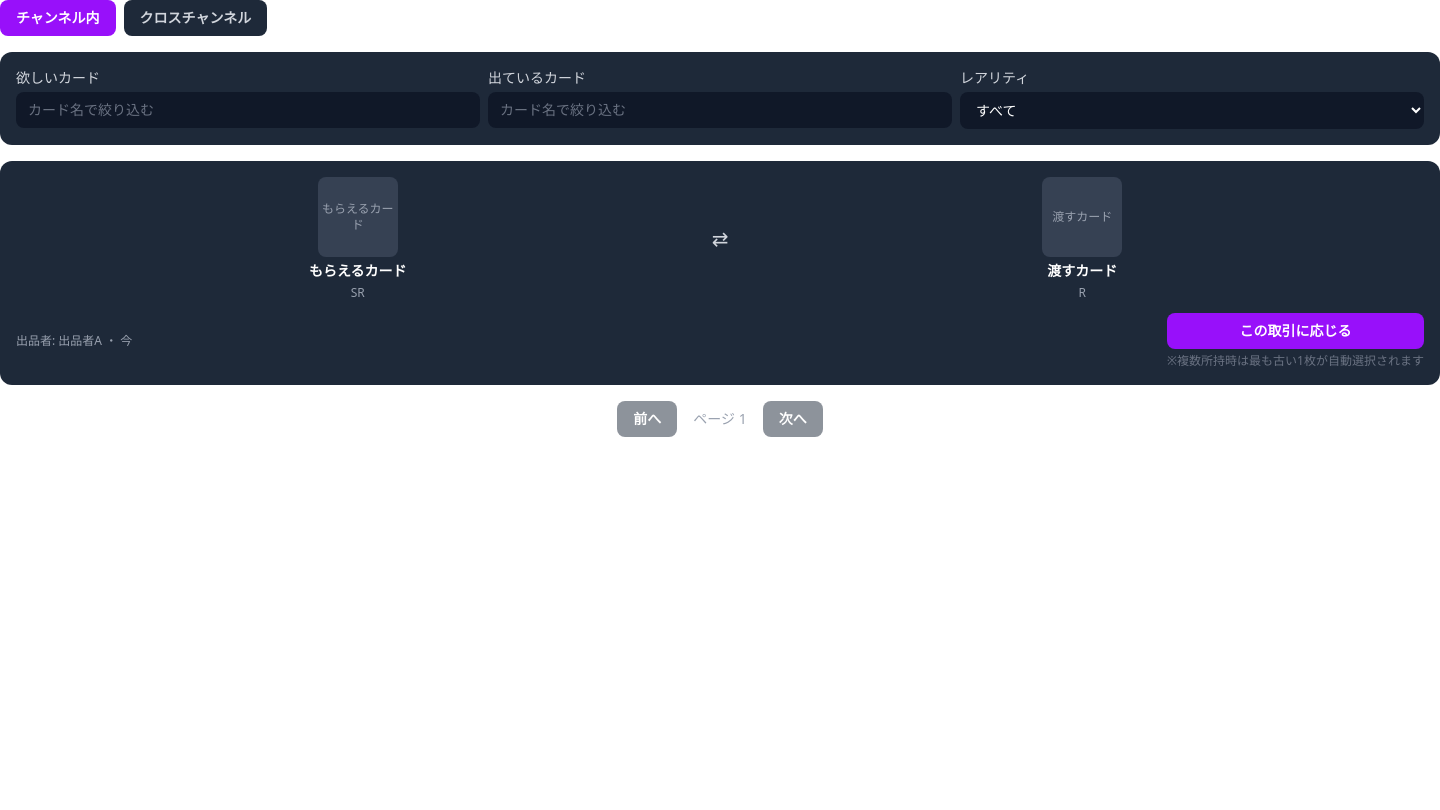
it: TradeBoard (#726) › keeps the same requestId across retries and shows the busy message on TRADE_BUSY
Click the button "この取引に応じる" at (1296, 331), box [1167,313,1424,349]
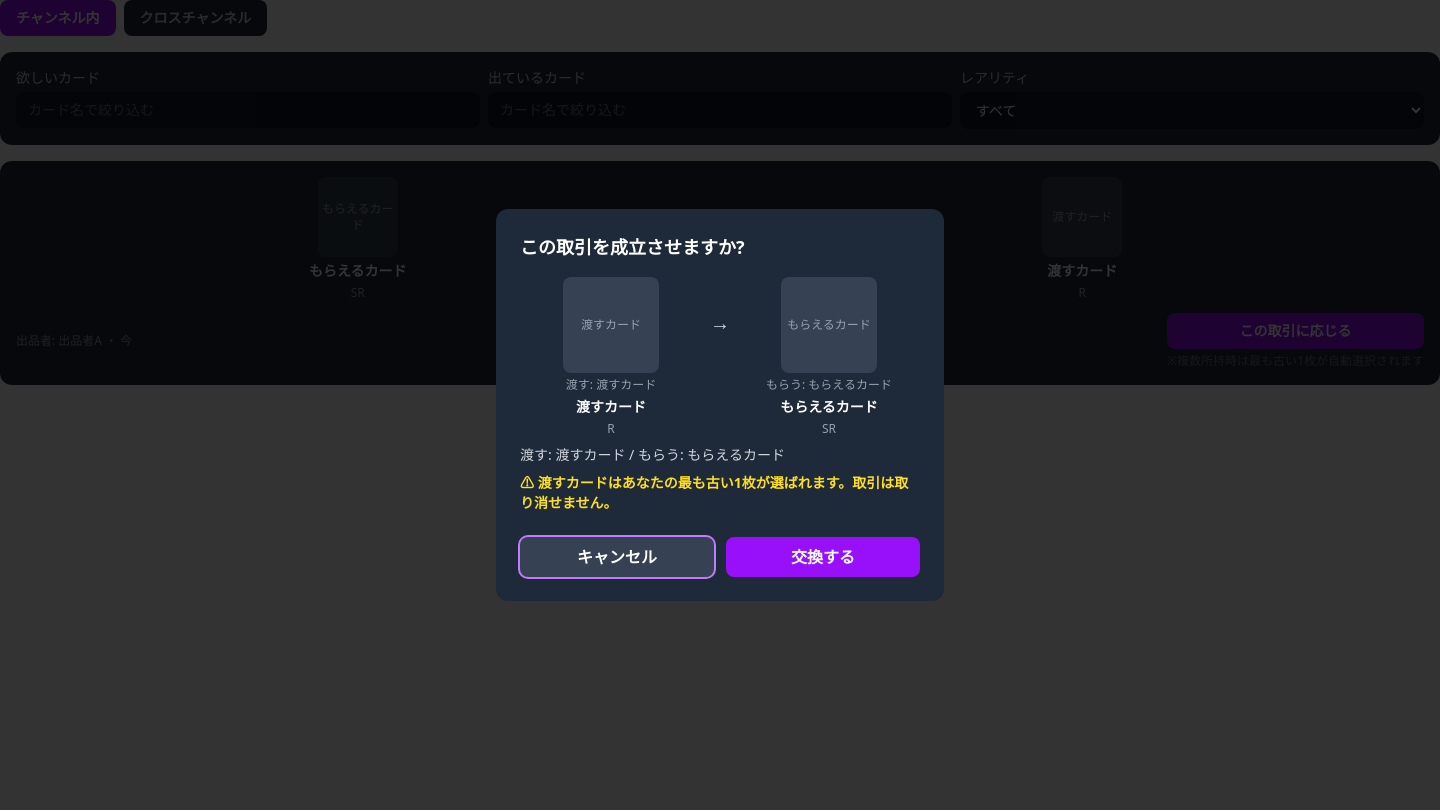
Click the button "交換する" at (823, 557), box [726,537,920,577]
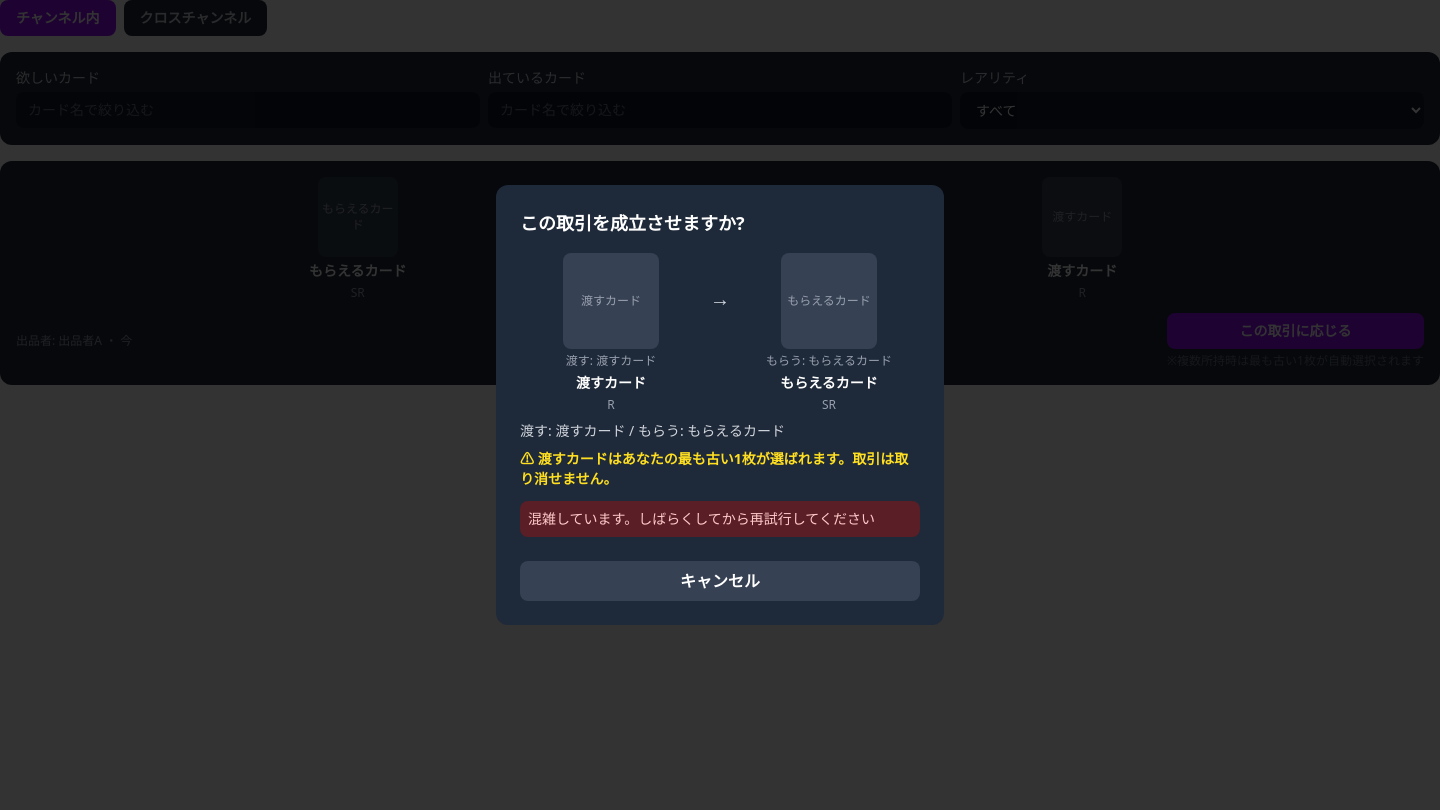
Check: the text "混雑しています。しばらくしてから再試行してください" is shown, box [520,501,920,537]
